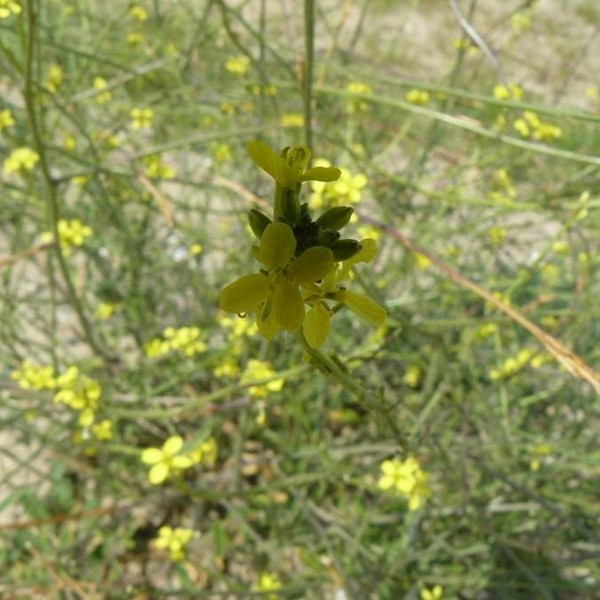obstacle: (215, 97, 418, 448)
